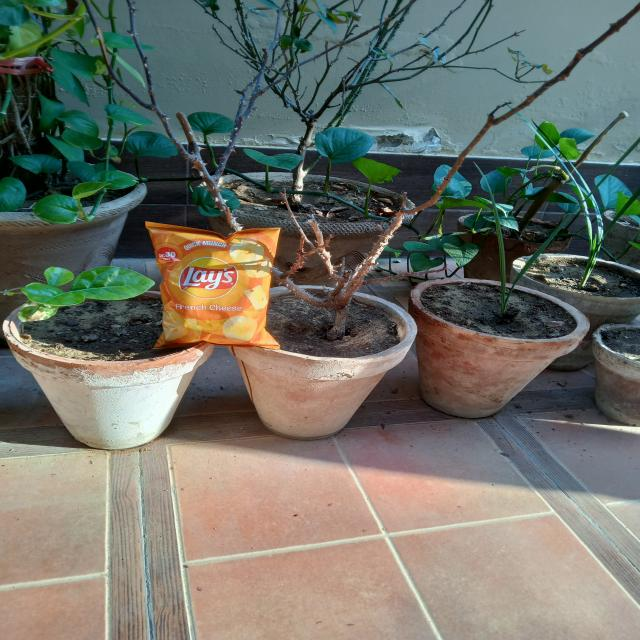Plastic: (134, 211, 292, 360)
